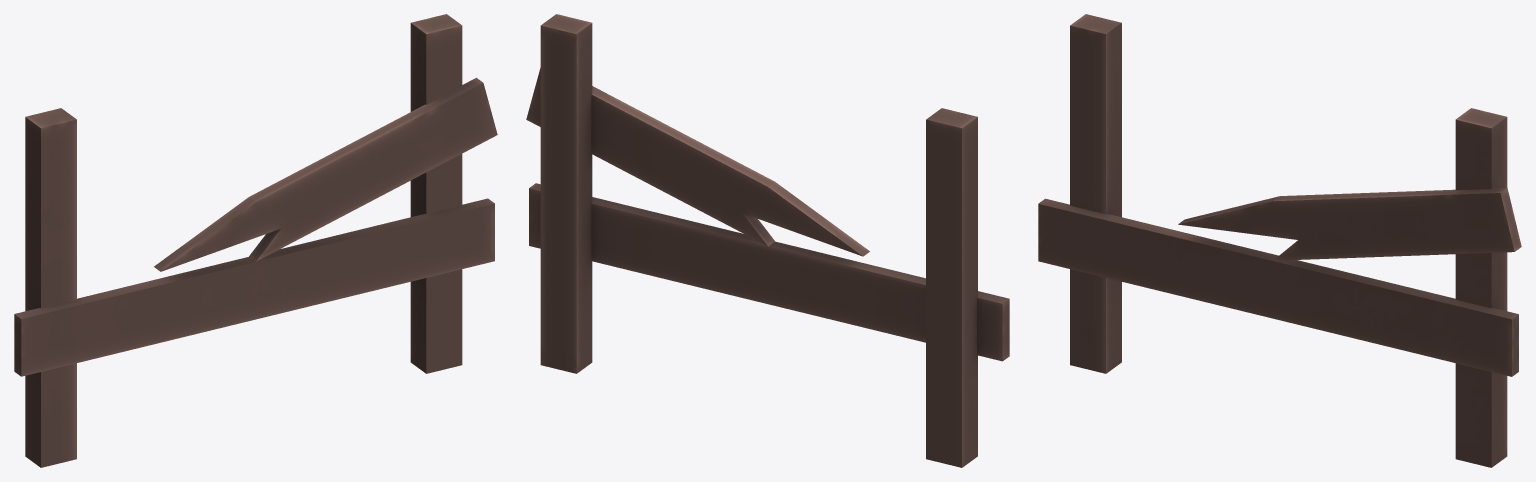
The model's file is Fence_10.fbx.
3 renders of one model, left to right at view 1: azimuth 30°, elevation 25°; view 2: azimuth 150°, elevation 25°; view 3: azimuth 330°, elevation 25°, orthographic.
Parts seen in each view (by area): view 1: Fence_10; view 2: Fence_10; view 3: Fence_10.
Part boxes in pixels (x1,y1,x2,y2): Fence_10: [14, 14, 497, 467]; Fence_10: [526, 14, 1009, 467]; Fence_10: [1038, 14, 1521, 467].
Size of the model in its own units: 60.16 by 40.98 by 4.78.
